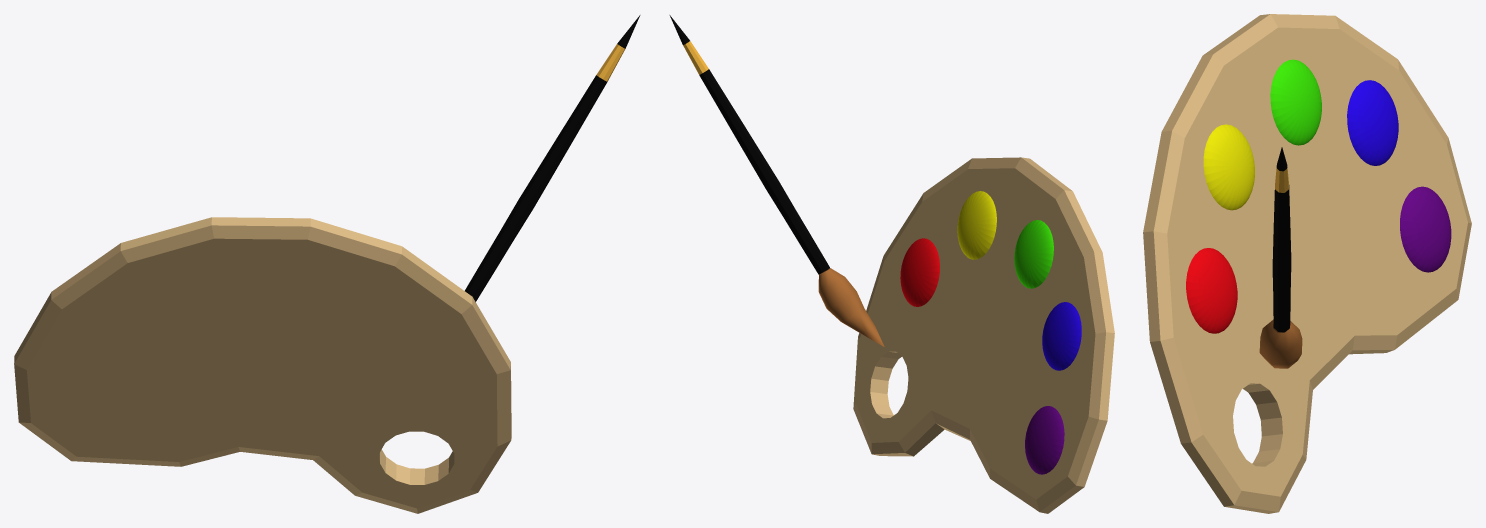
File: palette3.fbx
3 renders of one model, left to right at view 1: azimuth 30°, elevation 25°; view 2: azimuth 150°, elevation 25°; view 3: azimuth 270°, elevation 25°, orthographic. The views are drawn at different scales.
Visible parts, largest first — view 1: palette, Cylinder; view 2: palette, Cylinder, brush, blue, green, yellow, red, purple; view 3: palette, red, yellow, green, blue, purple, Cylinder, brush.
Part boxes in pixels (x1=…): palette: x1=14, y1=217, x2=511, y2=513; Cylinder: x1=465, y1=15, x2=640, y2=301; palette: x1=853, y1=157, x2=1114, y2=513; Cylinder: x1=669, y1=15, x2=829, y2=274; brush: x1=818, y1=268, x2=884, y2=346; blue: x1=1042, y1=302, x2=1081, y2=370; green: x1=1014, y1=220, x2=1053, y2=288; yellow: x1=957, y1=191, x2=996, y2=259; red: x1=900, y1=238, x2=939, y2=306; purple: x1=1025, y1=406, x2=1064, y2=474; palette: x1=1143, y1=14, x2=1471, y2=513; red: x1=1186, y1=248, x2=1237, y2=333; yellow: x1=1203, y1=124, x2=1254, y2=210; green: x1=1270, y1=59, x2=1321, y2=145; blue: x1=1347, y1=80, x2=1398, y2=165; purple: x1=1400, y1=186, x2=1451, y2=272; Cylinder: x1=1272, y1=147, x2=1291, y2=332; brush: x1=1259, y1=319, x2=1302, y2=368.
Size of the model in its own units: 282 by 213 by 129.
